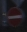No entry: (6, 6, 22, 27)
